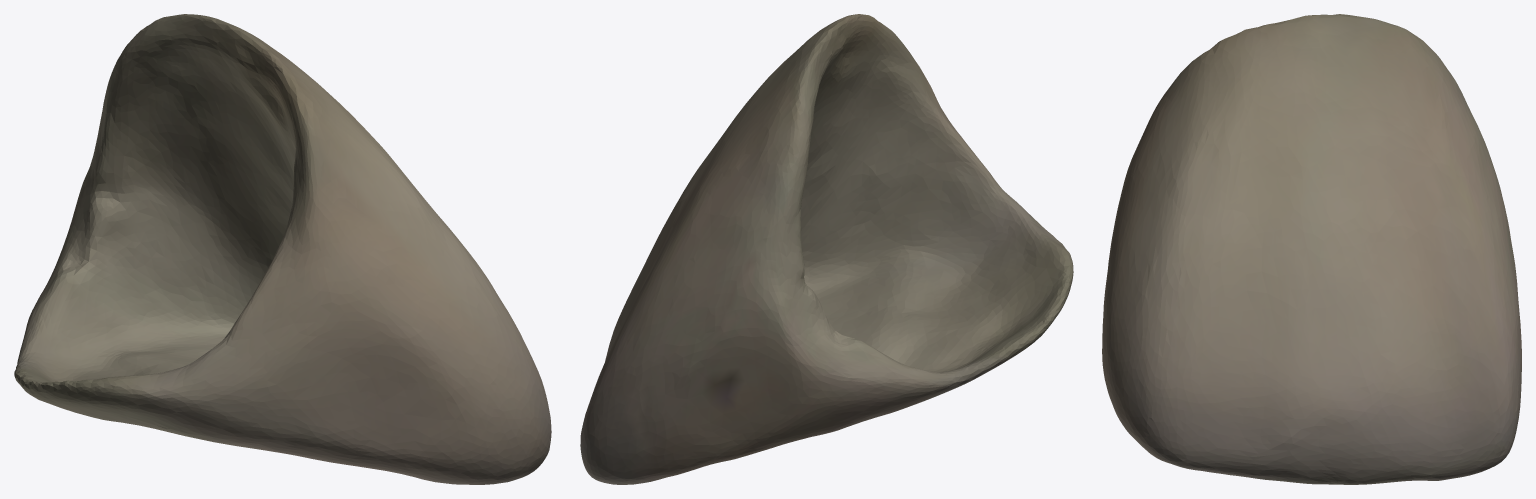
File: emax smooth.glb
3 renders of one model, left to right at view 1: azimuth 30°, elevation 25°; view 2: azimuth 150°, elevation 25°; view 3: azimuth 270°, elevation 25°, orthographic. The views are drawn at different scales.
Bounding box in the file's own units: 0.1151 × 0.1135 × 0.1089.
